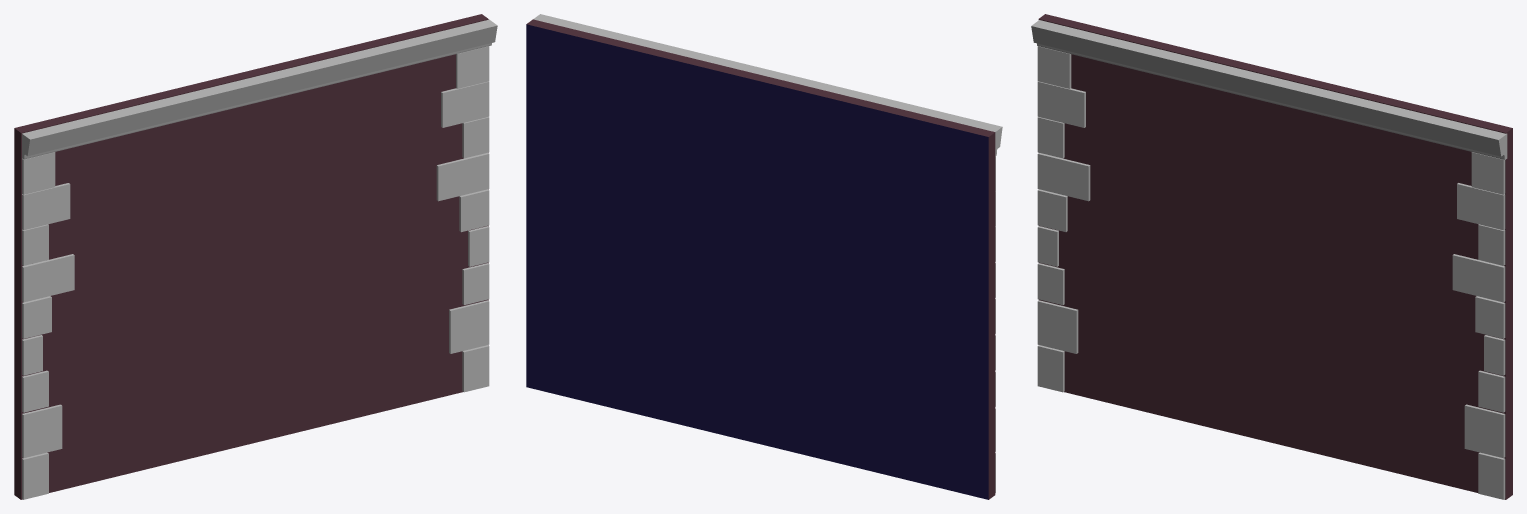
The model's file is SimpleWall.fbx.
3 renders of one model, left to right at view 1: azimuth 30°, elevation 25°; view 2: azimuth 150°, elevation 25°; view 3: azimuth 330°, elevation 25°, orthographic.
Visible parts, largest first — view 1: BASE.005, WALL SIDES.001, WALL TOP.001; view 2: BASE.005, WALL TOP.001; view 3: BASE.005, WALL SIDES.001, WALL TOP.001.
Boxes of the visible parts, x1,y1,x2,y2 form: BASE.005: [14, 14, 488, 499]; WALL SIDES.001: [22, 46, 489, 499]; WALL TOP.001: [22, 19, 497, 159]; BASE.005: [526, 19, 995, 499]; WALL TOP.001: [533, 14, 1002, 156]; BASE.005: [1038, 14, 1512, 499]; WALL SIDES.001: [1037, 46, 1505, 499]; WALL TOP.001: [1031, 20, 1507, 159].
Size of the model in its own units: 801 by 600 by 44.43.
